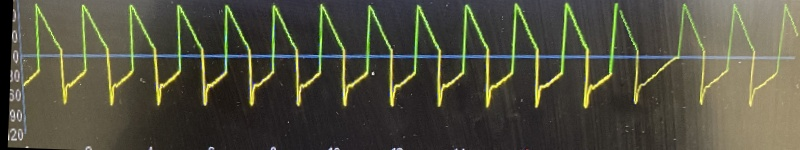peepi: (20, 0, 800, 113)
